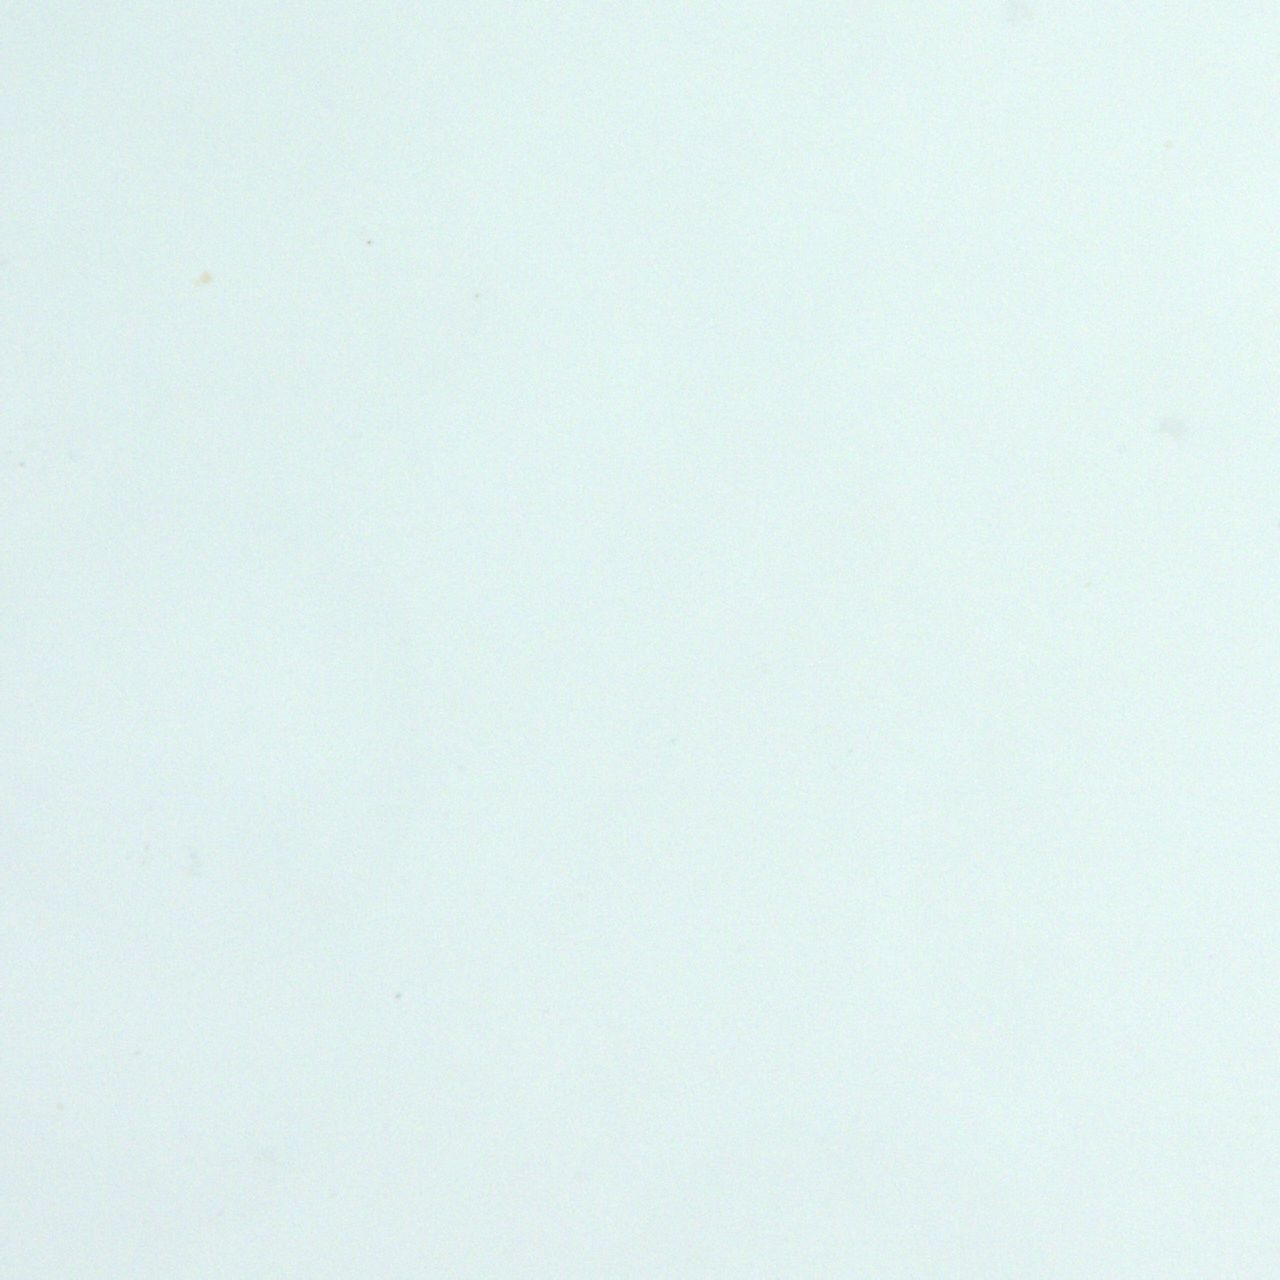dust: (199, 271, 212, 283)
